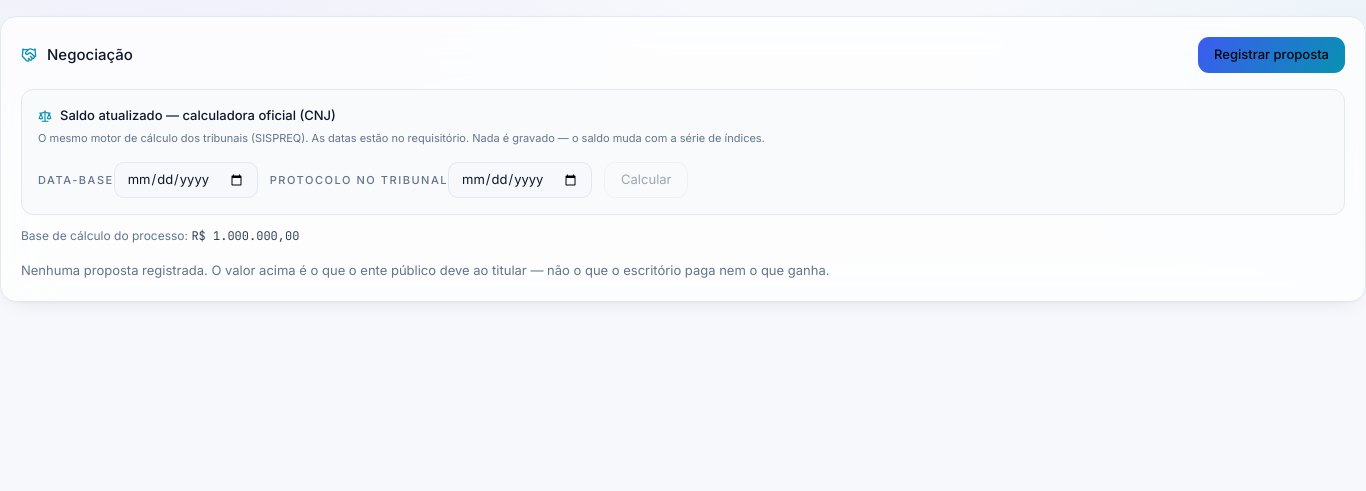
Scenario: Calculadora oficial (CNJ) › usa a base do processo, deriva a esfera do tribunal e mostra o memorial
The width and height of the screenshot is (1366, 491).
Expected: the text "Saldo atualizado — calculadora oficial (CNJ)" is shown, x1=38 y1=107 x2=336 y2=123
Type "2024-07-01" into the date field labelled "Data-base" at (186, 180), box x1=114 y1=162 x2=258 y2=198
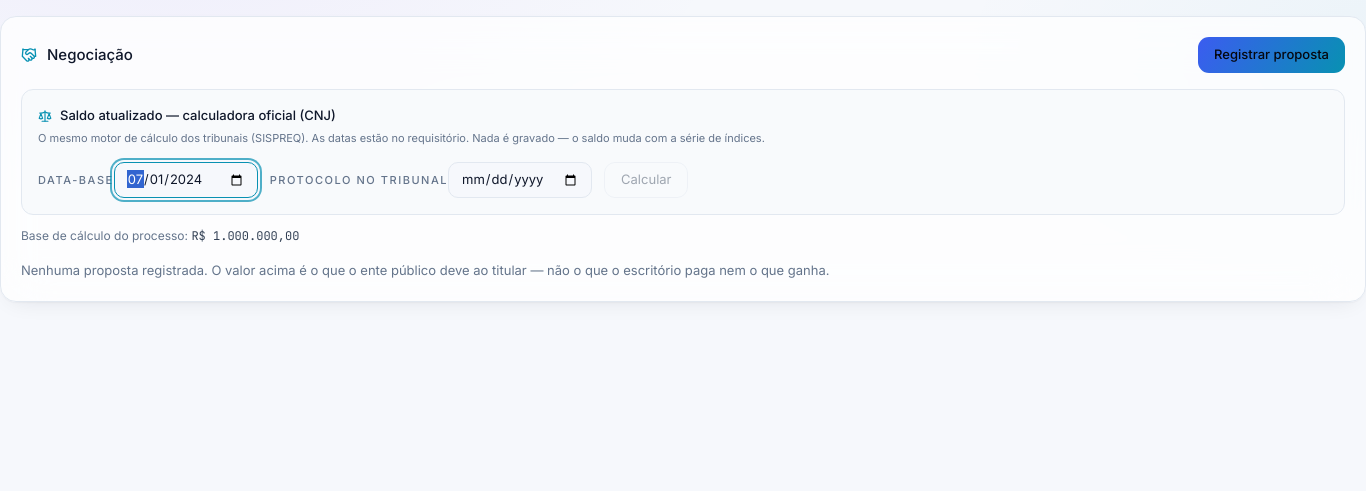
Type "2024-08-15" into the date field labelled "Protocolo no tribunal" at (520, 180), box x1=448 y1=162 x2=592 y2=198
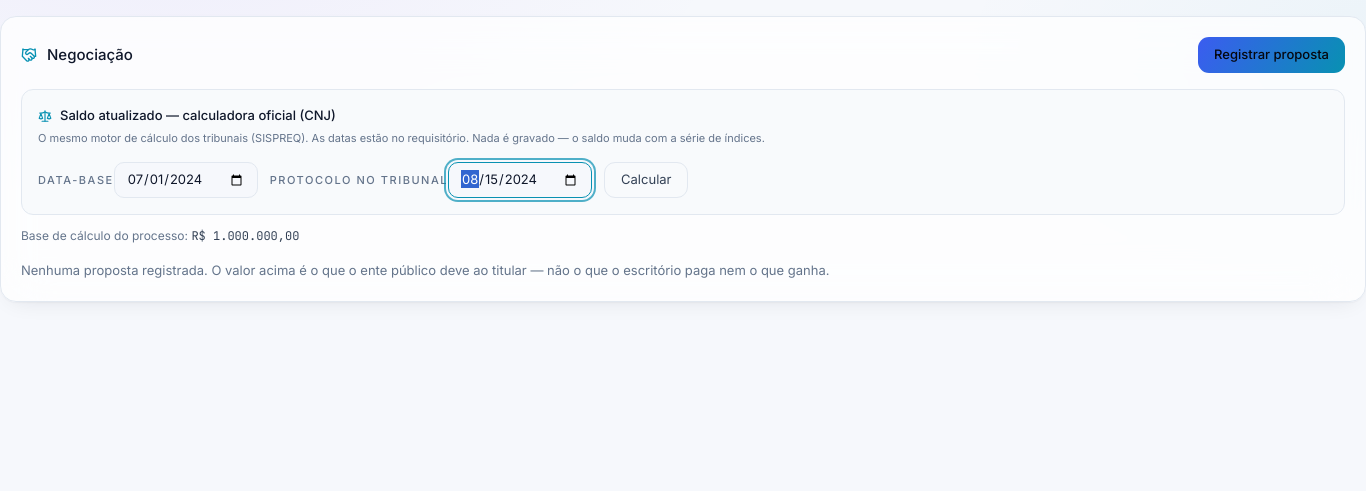
Click the button "Calcular" at (646, 180), box x1=604 y1=162 x2=688 y2=198
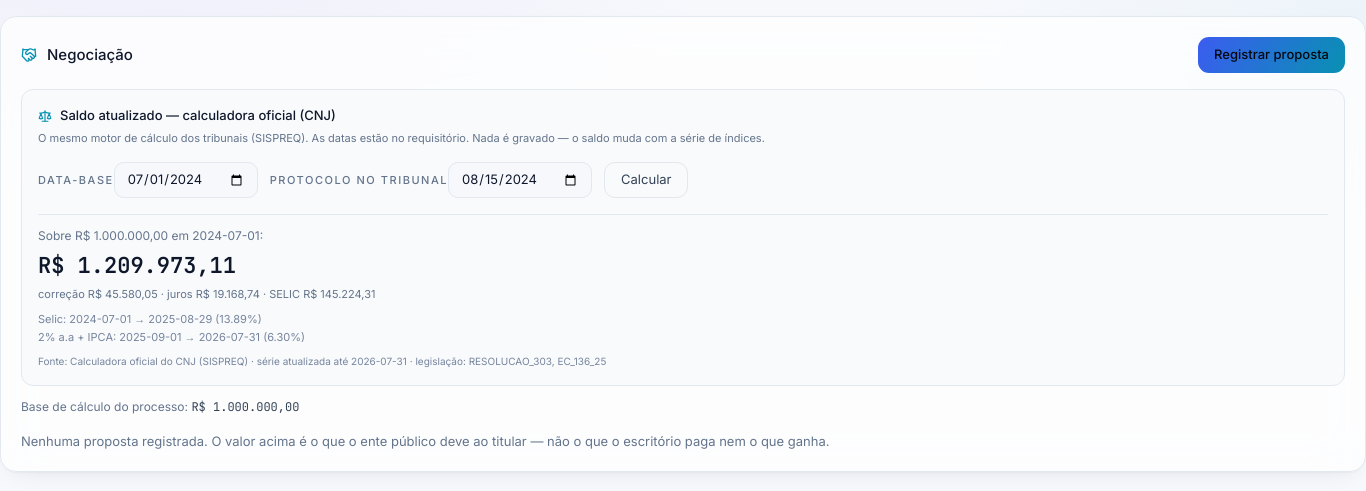
Now the text "R$ 1.209.973,11" is shown, box x1=38 y1=251 x2=236 y2=280
Now the list item "2% a.a + IPCA: 2025-09-01 → 2026-07-31 (6.30%)" is shown, box x1=38 y1=330 x2=305 y2=344
Now the text "Calculadora oficial do CNJ (SISPREQ)" is shown, box x1=38 y1=354 x2=248 y2=366
